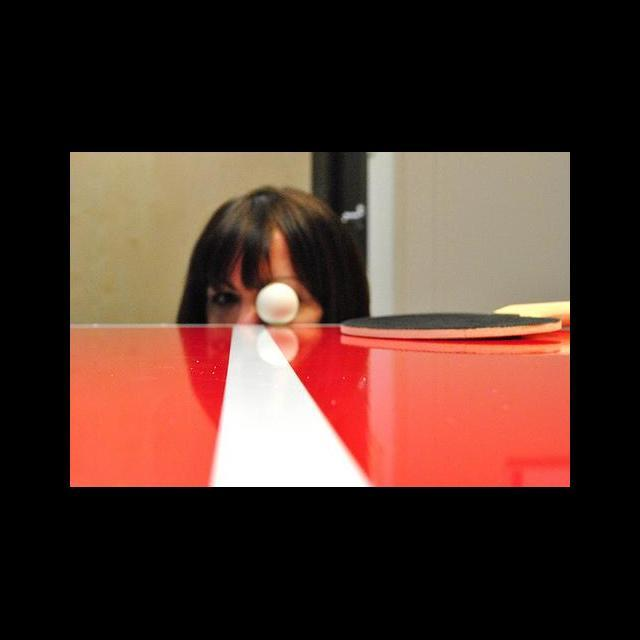ping-pong-ball: (254, 281, 302, 327)
